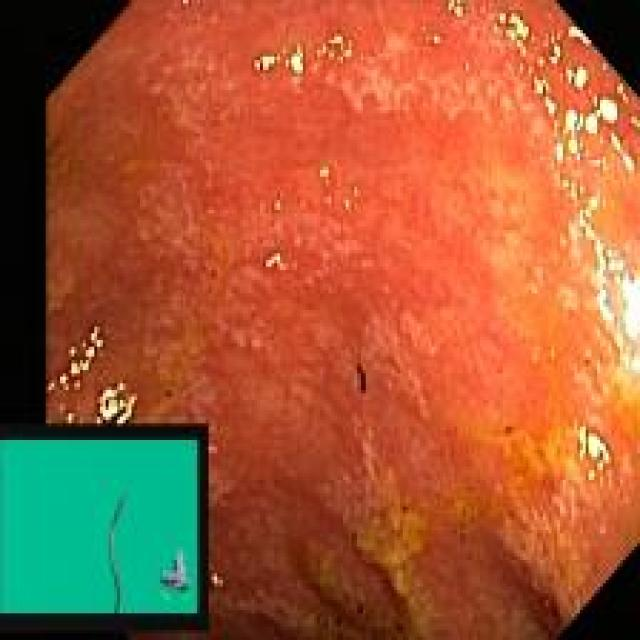ulcerative-colitis-grade-1: (48, 0, 640, 639)
